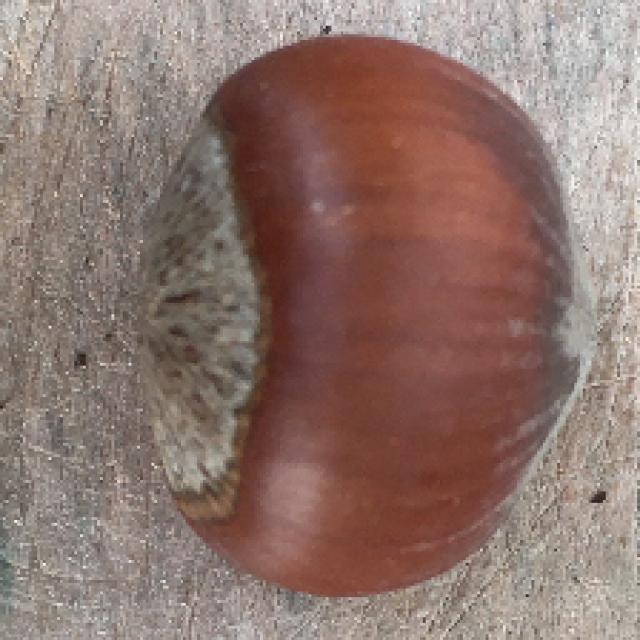DamagedHazelnut: (147, 34, 606, 596)
